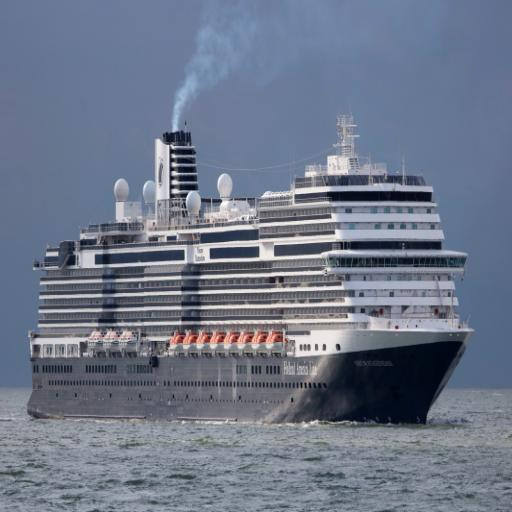cruises: (24, 101, 477, 431)
